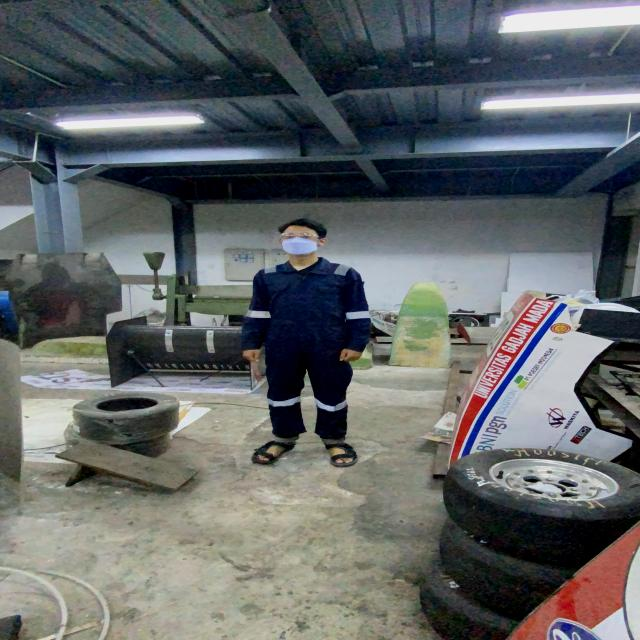face_mask: (277, 228, 319, 254)
glasses: (276, 230, 322, 242)
hand_noglove: (238, 346, 264, 364), (335, 347, 364, 363)
head_nohelmet: (275, 215, 327, 233)
person: (231, 215, 378, 473)
